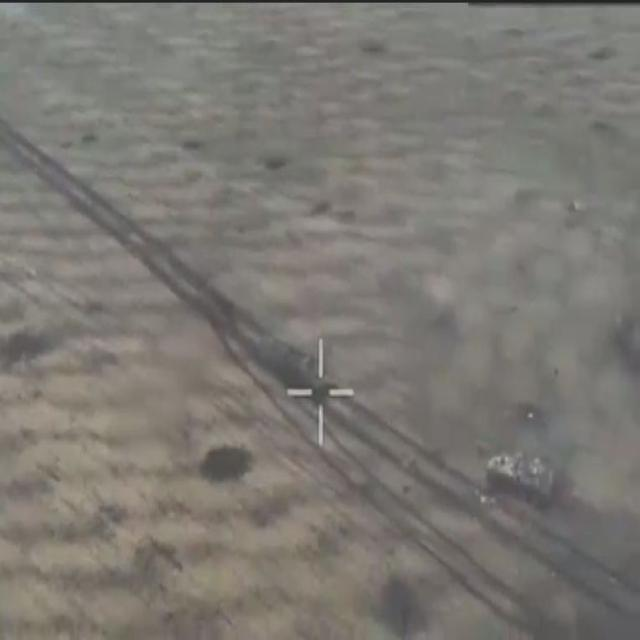vehicle: (483, 429, 562, 515)
